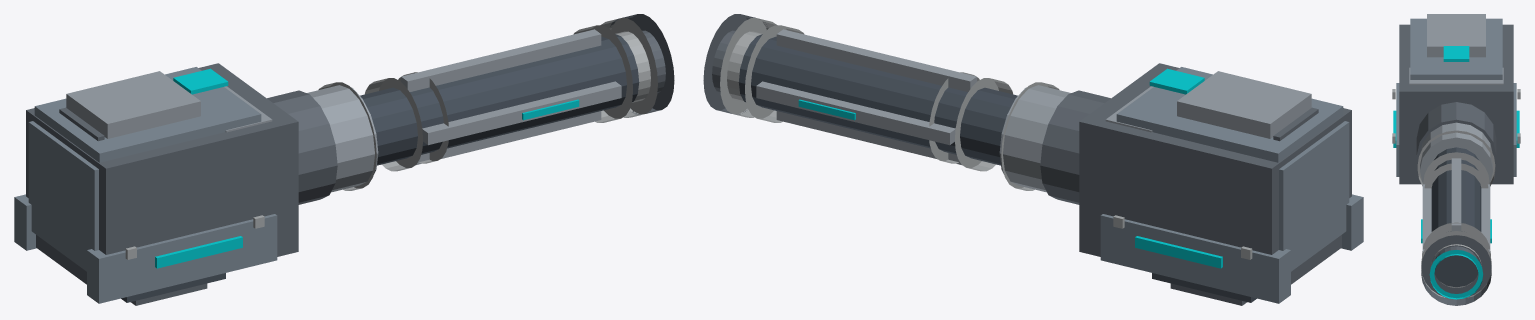
3 views of the same model, side by side, from view 1: azimuth 30°, elevation 25°; view 2: azimuth 150°, elevation 25°; view 3: azimuth 270°, elevation 25° (orthographic). The views are drawn at different scales.
Visible parts, largest first — view 1: main_receiver_0, inner_barrel_12, right_side_armor_3, rear_housing_5, top_armor_1, top_raised_panel_2, rear_barrel_shroud_13, neck_10, vent_rail_23, vent_rail_19, barrel_collar_18, muzzle_outer_25 (+11 smaller); view 2: main_receiver_0, inner_barrel_12, left_side_armor_4, rear_housing_5, top_armor_1, top_raised_panel_2, rear_barrel_shroud_13, neck_10, vent_rail_23, vent_rail_21, barrel_collar_18, muzzle_outer_25 (+11 smaller); view 3: main_receiver_0, inner_barrel_12, top_armor_1, top_raised_panel_2, muzzle_outer_25, rear_barrel_shroud_13, neck_10, muzzle_emitter_26, vent_rail_23, barrel_collar_15, barrel_collar_18, vent_rail_19 (+10 smaller).
Boxes of the visible parts, x1=… form: main_receiver_0: x1=26, y1=63, x2=298, y2=284; inner_barrel_12: x1=360, y1=34, x2=639, y2=165; right_side_armor_3: x1=87, y1=214, x2=277, y2=303; rear_housing_5: x1=28, y1=121, x2=98, y2=271; top_armor_1: x1=34, y1=67, x2=261, y2=162; top_raised_panel_2: x1=66, y1=71, x2=200, y2=138; rear_barrel_shroud_13: x1=307, y1=85, x2=378, y2=192; neck_10: x1=267, y1=90, x2=337, y2=204; vent_rail_23: x1=401, y1=29, x2=601, y2=91; vent_rail_19: x1=422, y1=81, x2=621, y2=145; barrel_collar_18: x1=600, y1=18, x2=657, y2=117; muzzle_outer_25: x1=610, y1=14, x2=674, y2=114; main_receiver_0: x1=1079, y1=63, x2=1351, y2=284; inner_barrel_12: x1=738, y1=34, x2=1017, y2=165; left_side_armor_4: x1=1100, y1=214, x2=1290, y2=303; rear_housing_5: x1=1279, y1=121, x2=1349, y2=271; top_armor_1: x1=1116, y1=67, x2=1343, y2=162; top_raised_panel_2: x1=1177, y1=71, x2=1311, y2=138; rear_barrel_shroud_13: x1=999, y1=85, x2=1070, y2=192; neck_10: x1=1040, y1=90, x2=1110, y2=204; vent_rail_23: x1=776, y1=29, x2=976, y2=91; vent_rail_21: x1=756, y1=81, x2=955, y2=145; barrel_collar_18: x1=720, y1=18, x2=777, y2=117; muzzle_outer_25: x1=703, y1=14, x2=768, y2=114; main_receiver_0: x1=1399, y1=24, x2=1513, y2=184; inner_barrel_12: x1=1431, y1=147, x2=1481, y2=287; top_armor_1: x1=1410, y1=18, x2=1502, y2=79; top_raised_panel_2: x1=1427, y1=14, x2=1485, y2=57; muzzle_outer_25: x1=1421, y1=235, x2=1491, y2=305; rear_barrel_shroud_13: x1=1420, y1=122, x2=1492, y2=183; neck_10: x1=1416, y1=102, x2=1496, y2=161; muzzle_emitter_26: x1=1429, y1=250, x2=1483, y2=299; vent_rail_23: x1=1451, y1=158, x2=1461, y2=231; barrel_collar_15: x1=1423, y1=152, x2=1489, y2=184; barrel_collar_18: x1=1421, y1=231, x2=1491, y2=297; vent_rail_19: x1=1422, y1=184, x2=1431, y2=253.
Size of the model in its own units: 5.42 by 1.69 by 1.41.
